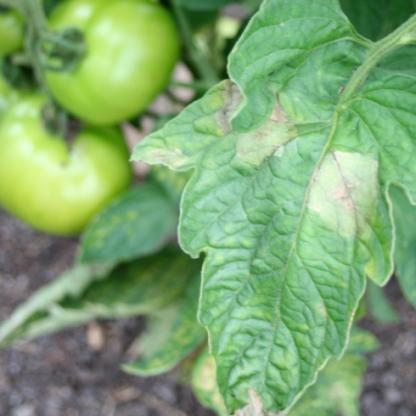tomato leaf late blight: (136, 4, 415, 401)
